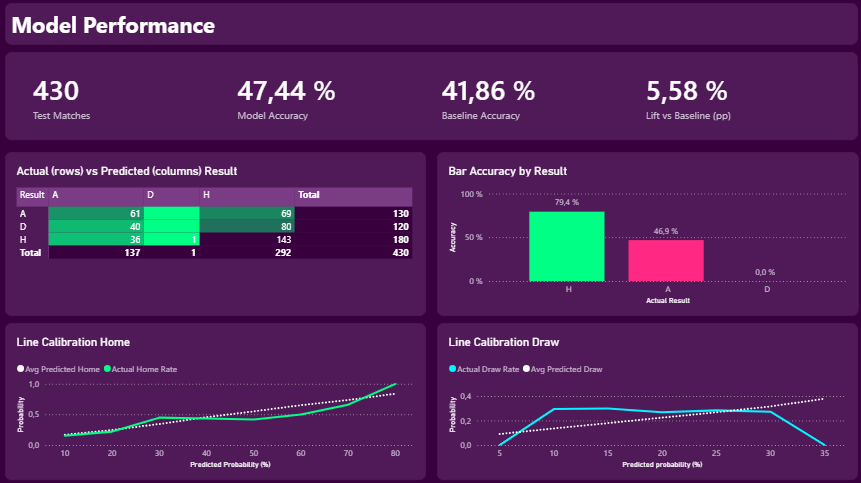

The page's visual inventory and layout, read from the dashboard file:
{"tool":"powerbi","page":{"name":"Model Performance","canvas":[1280,720],"ordinal":2},"visuals":[{"type":"textbox","box":[23.4,16.1,1248.3,61.5],"z":0},{"type":"cardVisual","fields":{"Data":["_Measures.Matches","_Measures.Model Accuracy","_Measures.Baseline Accuracy","_Measures.Accuracy vs Baseline"]},"box":[23.4,87.8,1248.1,129.3],"z":1000},{"type":"pivotTable","title":"Actual (rows) vs Predicted (columns) Result","fields":{"Rows":["matches.result"],"Columns":["matches.predictions.pred"],"Values":["_Measures.Matches"]},"box":[23.4,234.1,616.1,240],"z":2000},{"type":"clusteredColumnChart","title":"Bar Accuracy by Result","fields":{"Y":["_Measures.Accuracy by Result"],"Category":["matches.result"]},"box":[655.6,234.1,616.7,240],"z":3000},{"type":"lineChart","title":"Line Calibration Home","fields":{"Category":["matches.Prob Bin H"],"Y":["_Measures.Avg Predicted Home","_Measures.Actual Home Rate"]},"box":[23.4,484.4,616.1,229.8],"z":4000},{"type":"lineChart","title":"Line Calibration Draw","fields":{"Y":["_Measures.Actual Draw Rate","_Measures.Avg Predicted Draw"],"Category":["matches.Prob Bin D"]},"box":[655.6,484.4,616.1,229.8],"z":5000}]}

Visuals, with their boxes in screenshot pixels (x1, y1, x2, y2), scaled from the page's 1280x720 canvas onto the 861x483 screenshot:
textbox: left=16, top=11, right=855, bottom=52
cardVisual - _Measures.Matches x _Measures.Model Accuracy: left=16, top=59, right=855, bottom=146
"Actual (rows) vs Predicted (columns) Result" pivotTable: left=16, top=157, right=430, bottom=318
"Bar Accuracy by Result" clusteredColumnChart: left=441, top=157, right=856, bottom=318
"Line Calibration Home" lineChart: left=16, top=325, right=430, bottom=479
"Line Calibration Draw" lineChart: left=441, top=325, right=855, bottom=479
